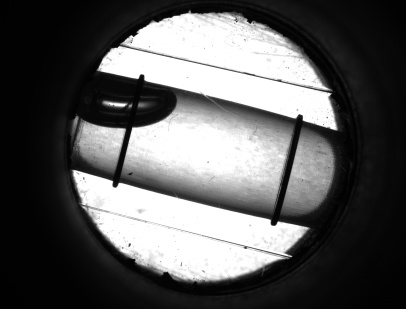line: (271, 137, 301, 207), (112, 133, 133, 168)
